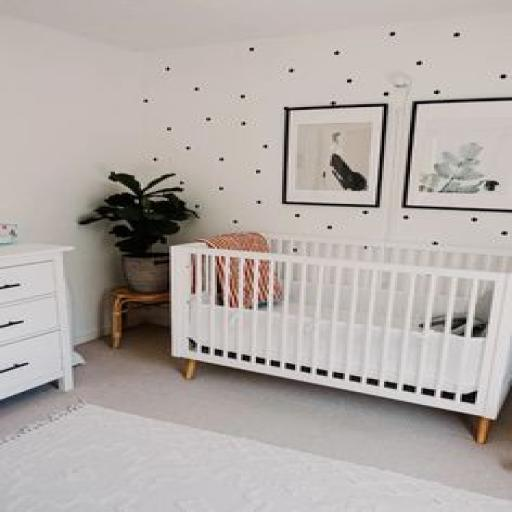crib: (172, 235, 511, 442)
